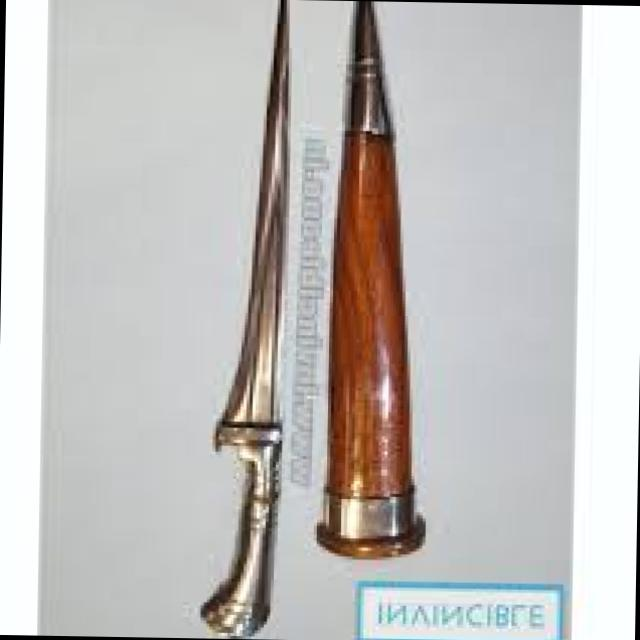Gun: (160, 0, 340, 640)
